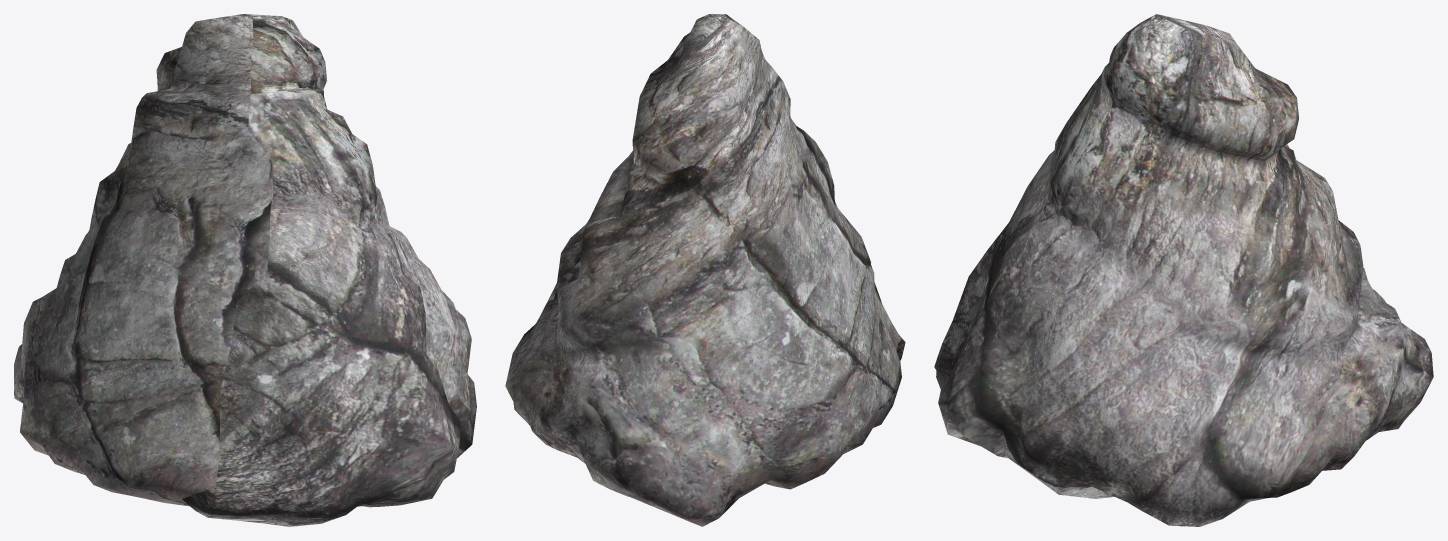
The model's file is Rock 7.FBX.
3 views of the same model, side by side, from view 1: azimuth 30°, elevation 25°; view 2: azimuth 150°, elevation 25°; view 3: azimuth 270°, elevation 25° (orthographic). The views are drawn at different scales.
Visible parts, largest first — view 1: RockMesh; view 2: RockMesh; view 3: RockMesh.
Boxes of the visible parts, box(x1,y1,x2,y2) form: RockMesh: box(14, 14, 476, 526); RockMesh: box(505, 14, 905, 526); RockMesh: box(934, 14, 1433, 526).
Bounding box in the file's own units: 290 × 342 × 352.
1 material, 1 textured.
